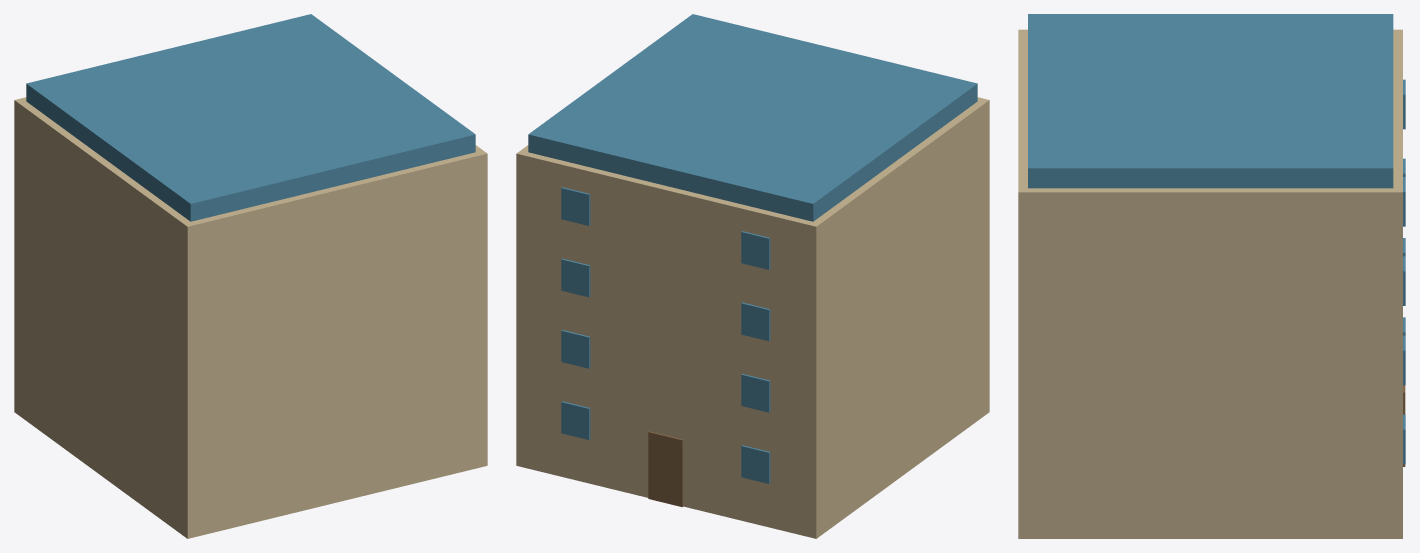
The model's file is house_apartment.glb.
The picture shows the model from 3 angles, left to right: view 1: azimuth 30°, elevation 25°; view 2: azimuth 150°, elevation 25°; view 3: azimuth 270°, elevation 25°; orthographic projection. The views are drawn at different scales.
Size of the model in its own units: 7.04 by 7.4 by 7.09.
